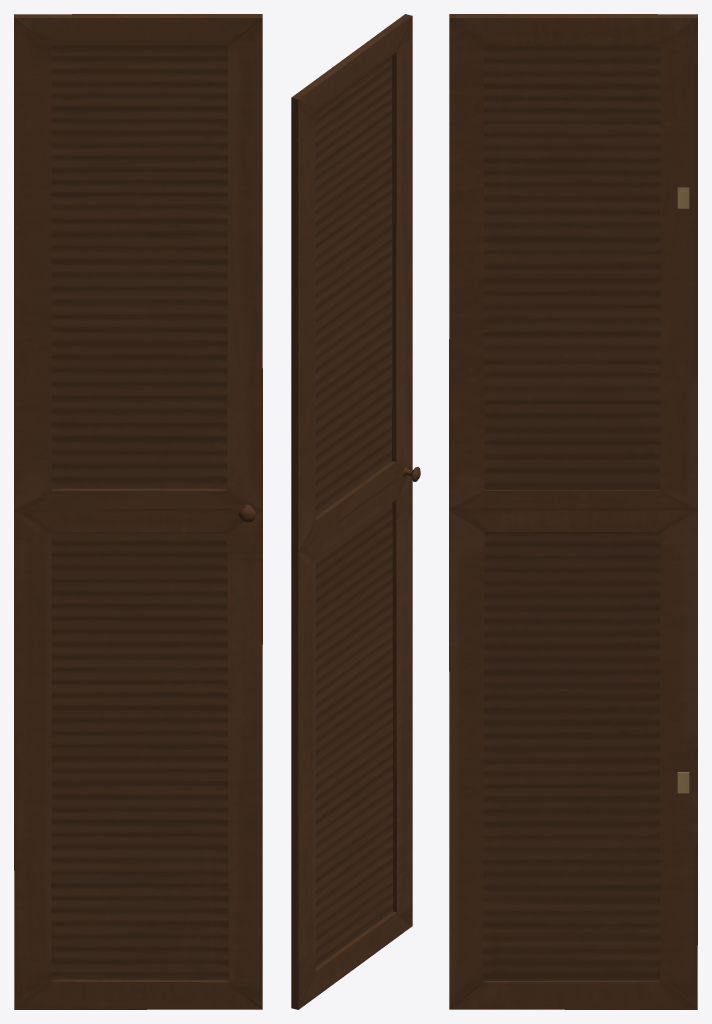
The model's file is SM_Cabinets_B1_Door1.fbx.
3 renders of one model, left to right at view 1: azimuth 90°, elevation 25°; view 2: azimuth 150°, elevation 25°; view 3: azimuth 270°, elevation 25°, orthographic. The views are drawn at different scales.
Visible parts, largest first — view 1: SM_Cabinets_B1_Door1; view 2: SM_Cabinets_B1_Door1; view 3: SM_Cabinets_B1_Door1.
Part boxes in pixels (x1,y1,x2,y2): SM_Cabinets_B1_Door1: [14, 14, 262, 1009]; SM_Cabinets_B1_Door1: [291, 14, 420, 1009]; SM_Cabinets_B1_Door1: [449, 14, 697, 1009].
Bounding box in the file's own units: 4.99 × 46.21 × 203.
Materials: 2 (2 with a texture image).
